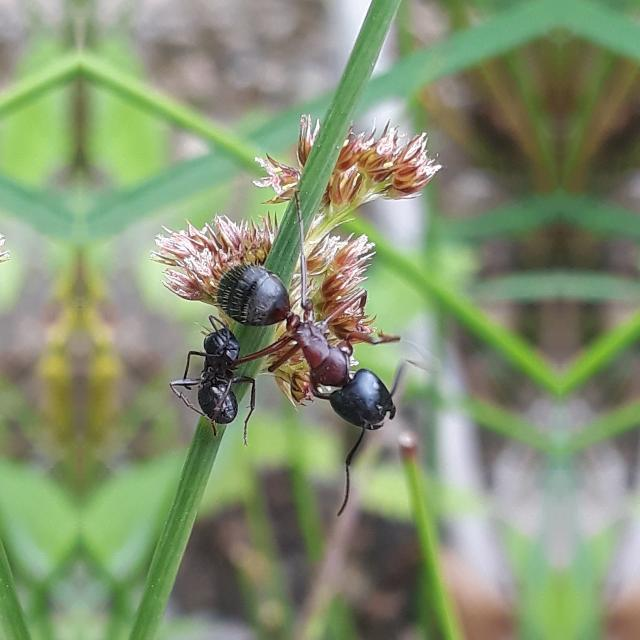Camponotus: (200, 221, 420, 469), (176, 310, 260, 452)
